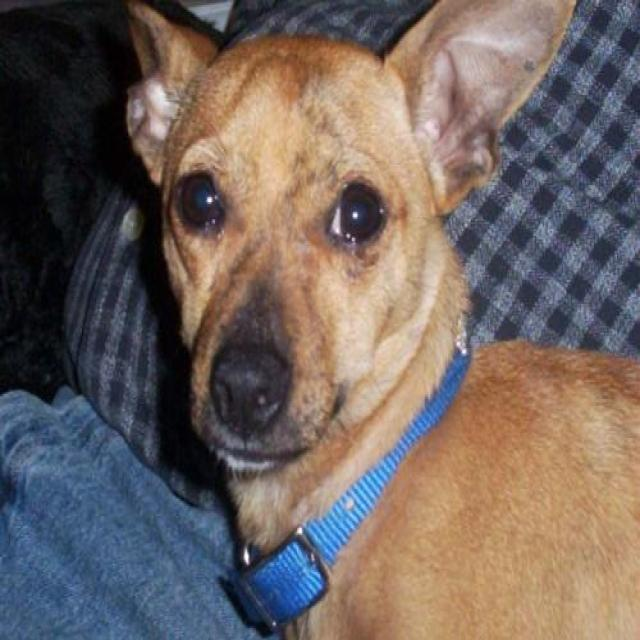Dogs: (120, 0, 638, 638)
